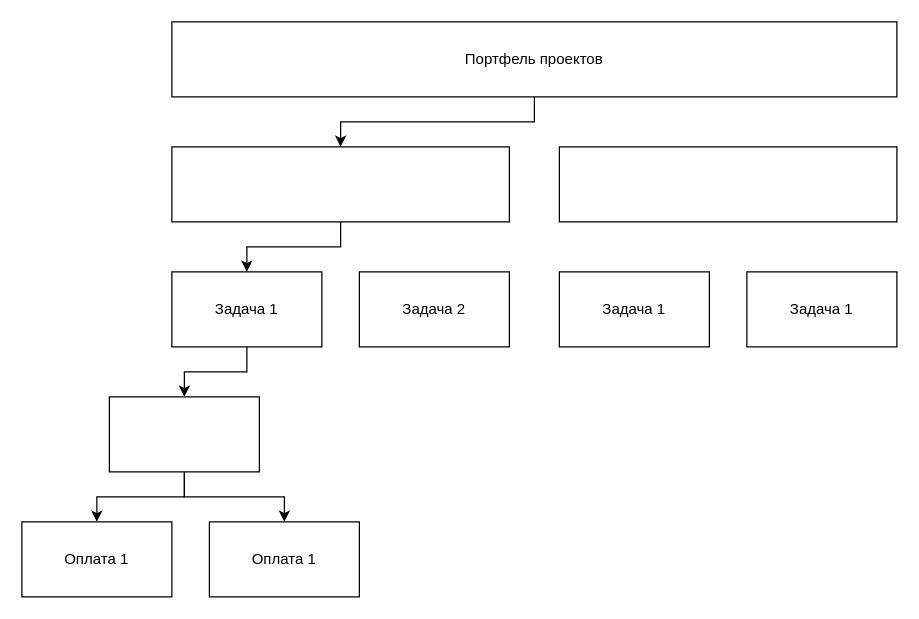
Image size: 919x619. Some labels were removed from this diagram. Here are the shapes that lost their labels. From the top down, the centre of each, then its label:
At pixel 340 184: "Проект 1".
At pixel 727 184: "Проект 2".
At pixel 183 434: "Заказ 1".
